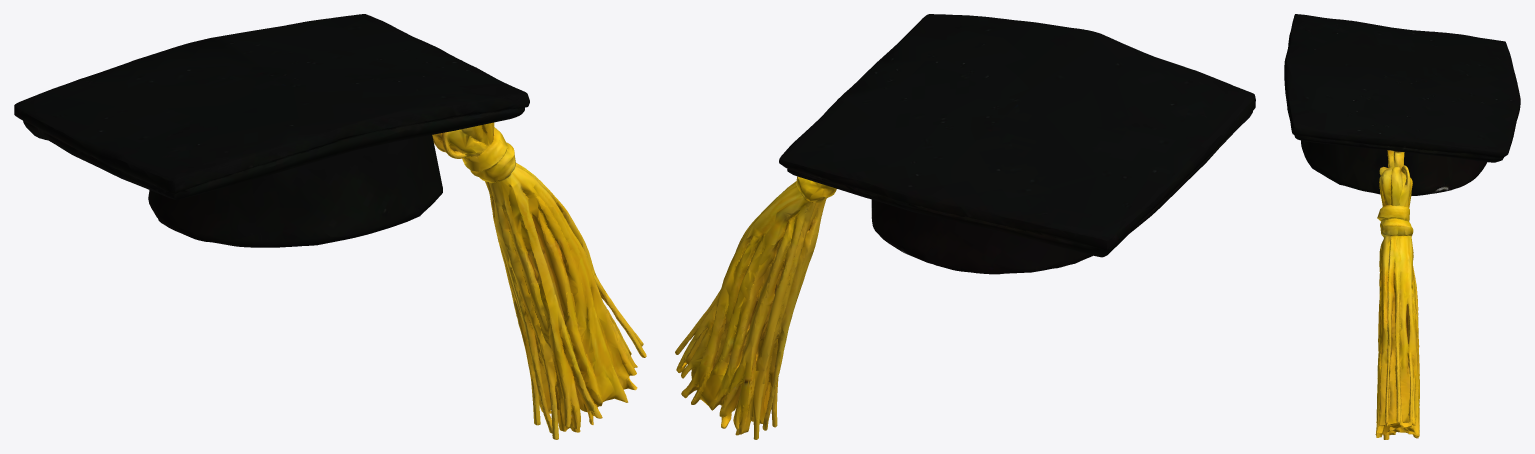
Rendered from prof-hat.glb.
The picture shows the model from 3 angles, left to right: view 1: azimuth 30°, elevation 25°; view 2: azimuth 150°, elevation 25°; view 3: azimuth 270°, elevation 25°; orthographic projection. The views are drawn at different scales.
Visible parts, largest first — view 1: trim; view 2: trim; view 3: trim.
Part boxes in pixels (x1=…): trim: x1=14, y1=14, x2=646, y2=439; trim: x1=675, y1=14, x2=1255, y2=439; trim: x1=1284, y1=14, x2=1520, y2=439.
Size of the model in its own units: 1.66 by 1.26 by 0.9357.
Materials: 1 (1 with a texture image).
